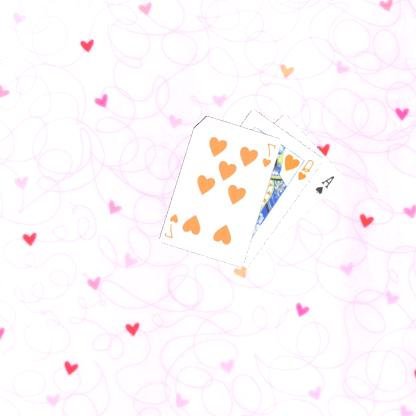7H: (163, 211, 182, 240), (262, 140, 280, 168)
AS: (314, 173, 338, 195)
QH: (297, 156, 318, 182)
